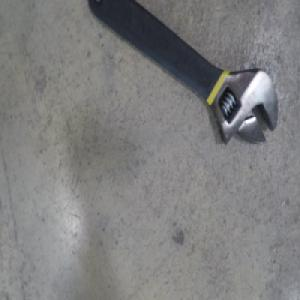AdjustableWrench: (87, 0, 277, 147)
